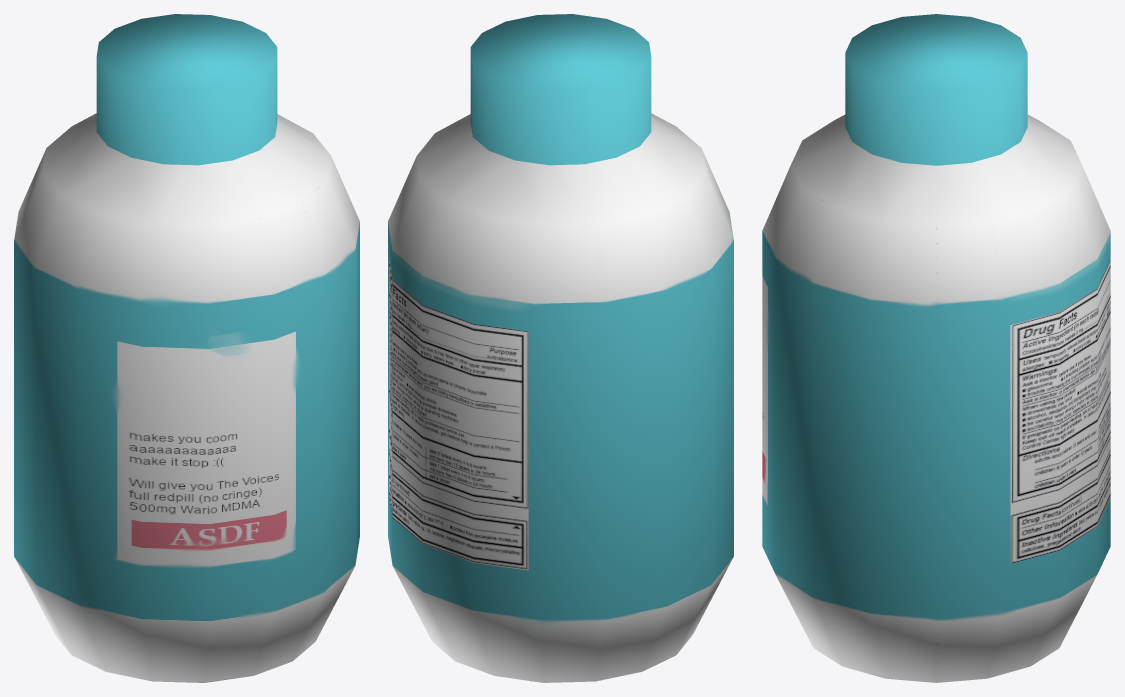
File: small.glb
3 renders of one model, left to right at view 1: azimuth 30°, elevation 25°; view 2: azimuth 150°, elevation 25°; view 3: azimuth 270°, elevation 25°, orthographic.
Parts seen in each view (by area): view 1: Cylinder; view 2: Cylinder; view 3: Cylinder.
Part boxes in pixels (left/top/right/bottom): Cylinder: left=14, top=14, right=359, bottom=682; Cylinder: left=388, top=14, right=733, bottom=682; Cylinder: left=762, top=14, right=1110, bottom=682.
Size of the model in its own units: 0.4 by 0.7276 by 0.4.
Materials: 1 (1 with a texture image).
